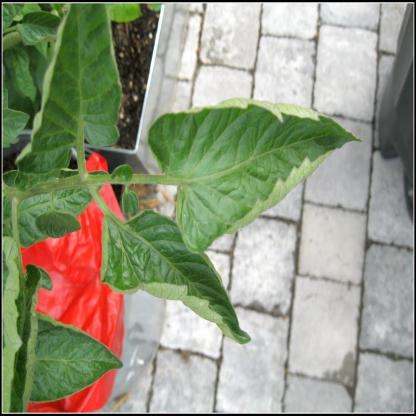tomato leaf: (147, 103, 352, 253), (95, 204, 253, 362), (15, 2, 124, 176)
